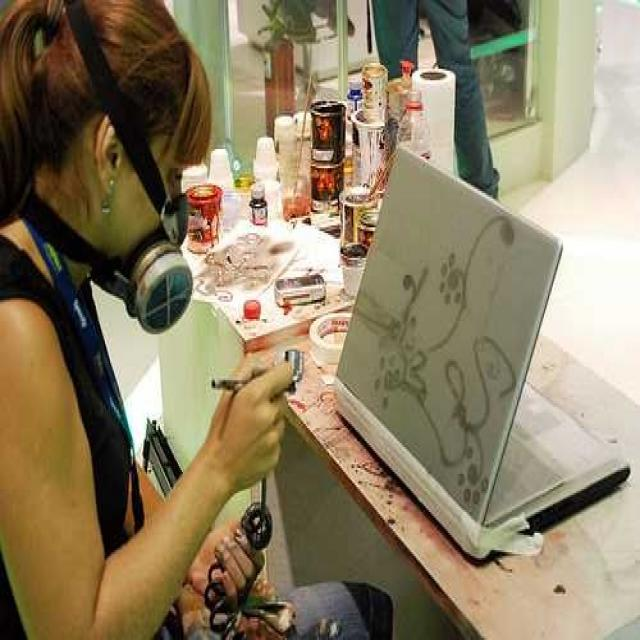laptop: (374, 162, 620, 522)
